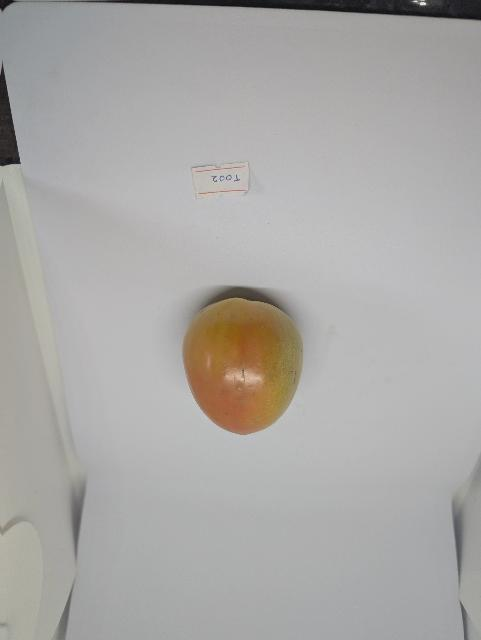turning: (183, 293, 306, 442)
